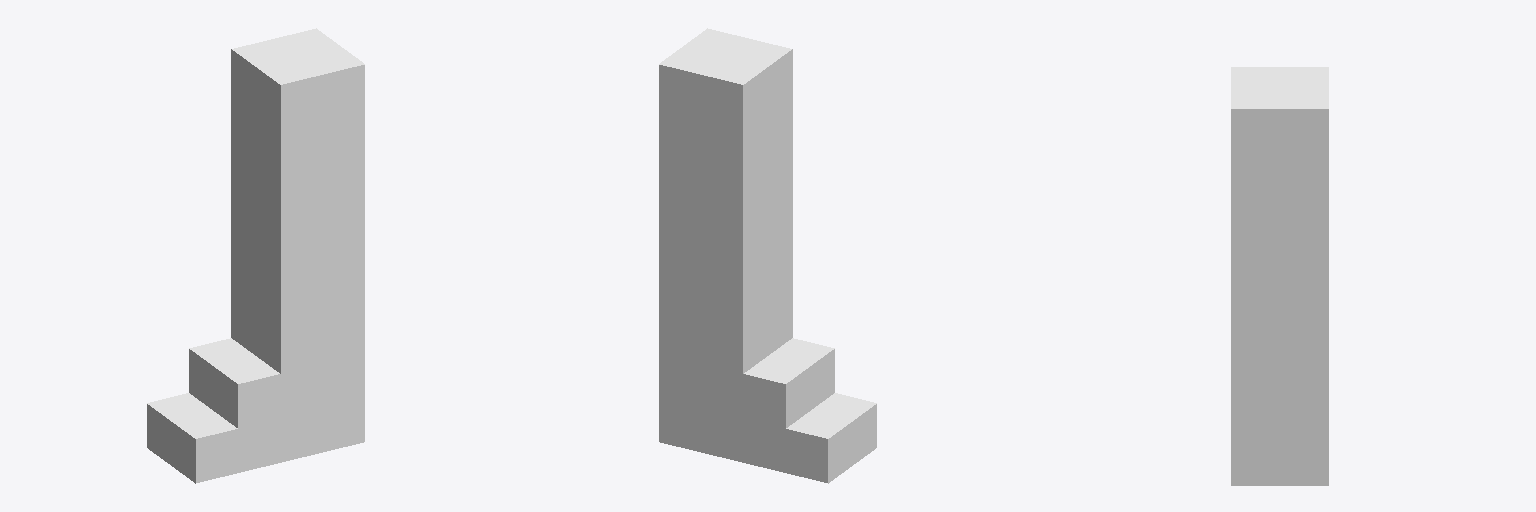
Rendered from kiritan-0-LeftLeg_1.obj.
3 renders of one model, left to right at view 1: azimuth 30°, elevation 25°; view 2: azimuth 150°, elevation 25°; view 3: azimuth 270°, elevation 25°, orthographic.
Visible parts, largest first — view 1: LeftLeg_1; view 2: LeftLeg_1; view 3: LeftLeg_1.
Part boxes in pixels (bbox=[...]): LeftLeg_1: bbox=[147, 28, 364, 483]; LeftLeg_1: bbox=[659, 28, 876, 483]; LeftLeg_1: bbox=[1231, 67, 1328, 485].
Size of the model in its own units: 0.8 by 1.7 by 0.4.